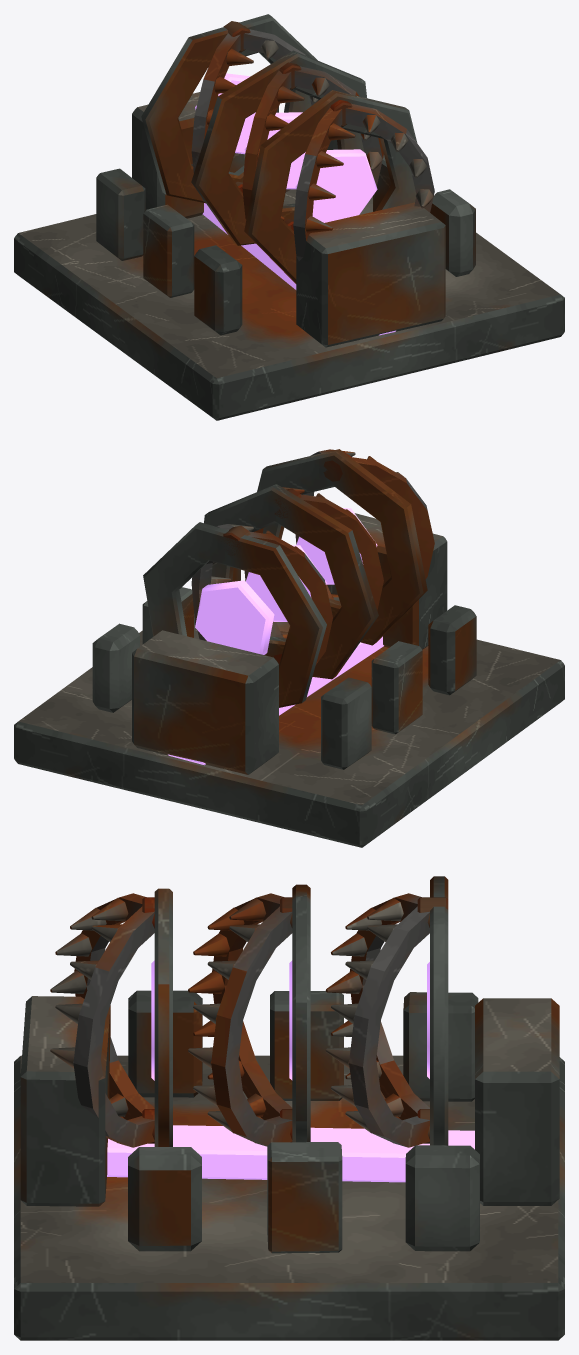
Rendered from R4X_SnareTrapDeployer_LOD1.glb.
The picture shows the model from 3 angles, top to bottom: view 1: azimuth 30°, elevation 25°; view 2: azimuth 150°, elevation 25°; view 3: azimuth 270°, elevation 25°; orthographic projection. The views are drawn at different scales.
Parts seen in each view (by area): view 1: R4X_SnareTrapDeployer_LOD1; view 2: R4X_SnareTrapDeployer_LOD1; view 3: R4X_SnareTrapDeployer_LOD1.
Part boxes in pixels (<box>): R4X_SnareTrapDeployer_LOD1: <box>14,14,564,420</box>; R4X_SnareTrapDeployer_LOD1: <box>14,449,564,847</box>; R4X_SnareTrapDeployer_LOD1: <box>14,876,564,1340</box>.
Bounding box in the file's own units: 0.52 × 0.3513 × 0.52.
5 materials, 4 textured.
